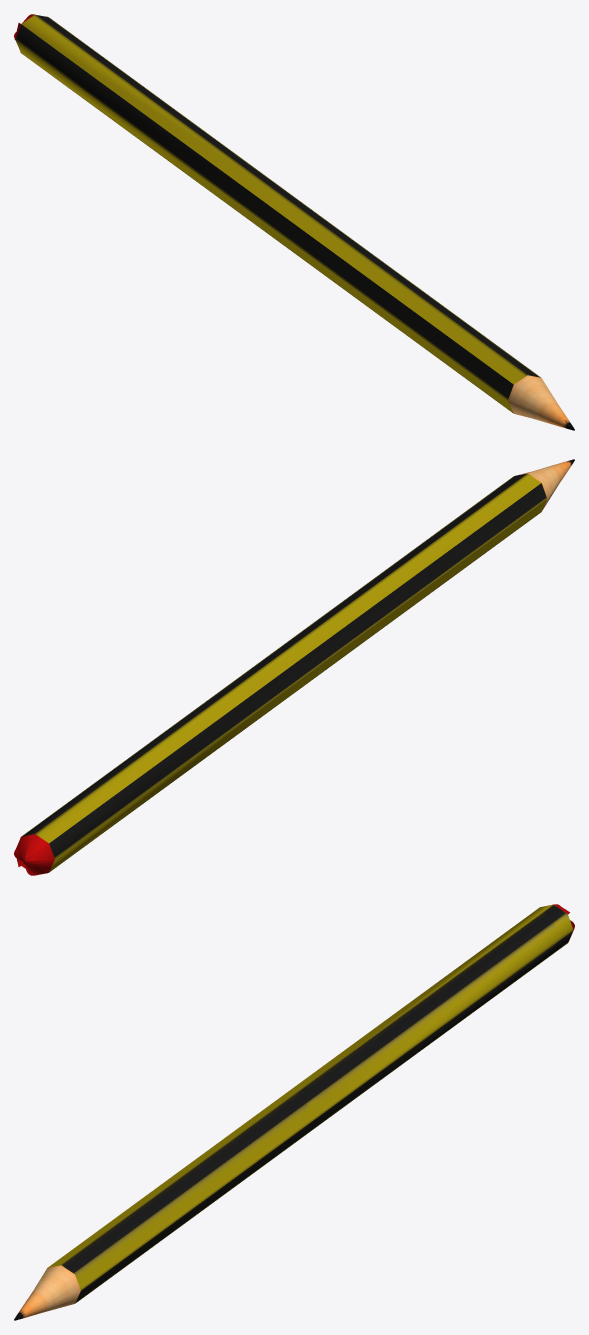
The model's file is Pencil.fbx.
3 renders of one model, top to bottom at view 1: azimuth 30°, elevation 25°; view 2: azimuth 150°, elevation 25°; view 3: azimuth 330°, elevation 25°, orthographic.
Parts seen in each view (by area): view 1: defaultMaterial.001; view 2: defaultMaterial.001; view 3: defaultMaterial.001.
Part boxes in pixels (x1,y1,x2,y2): defaultMaterial.001: [14, 14, 574, 430]; defaultMaterial.001: [14, 459, 574, 875]; defaultMaterial.001: [14, 904, 574, 1320].
Bounding box in the file's own units: 5.66 × 5.66 × 137.
1 material, 1 textured.
